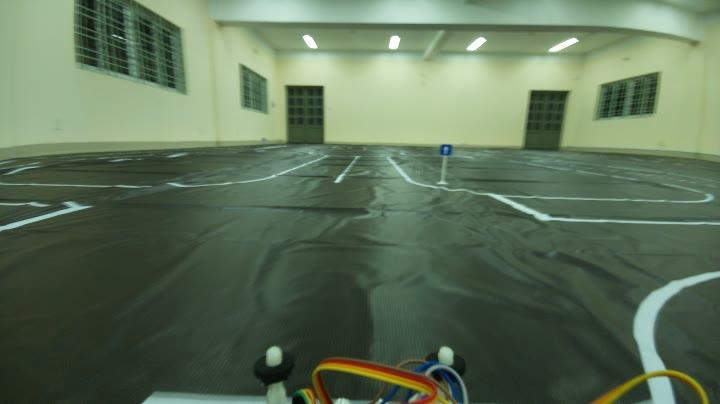onewayroad: (435, 138, 454, 158)
